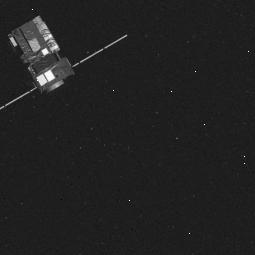soho: (0, 14, 108, 106)
